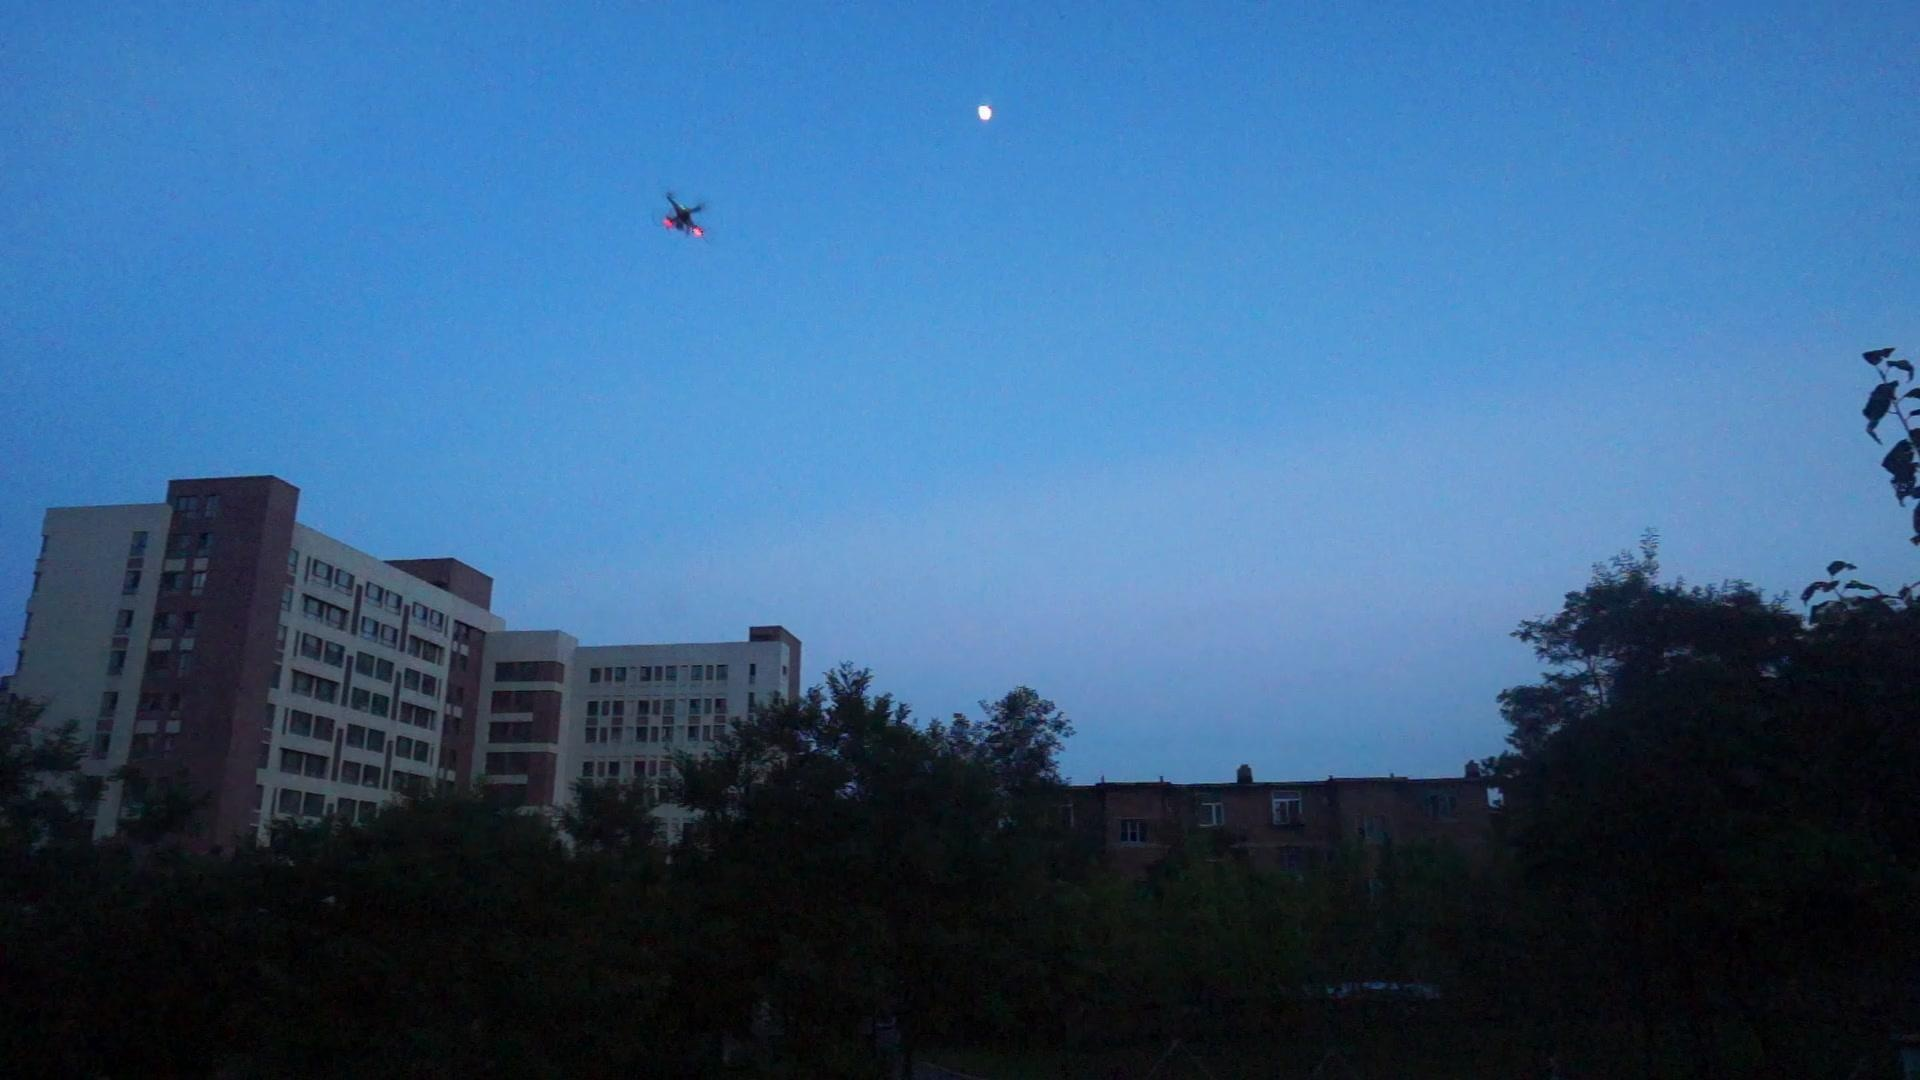UAV: (665, 193, 708, 237)
